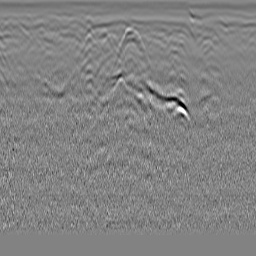cavity: (116, 26, 142, 50)
